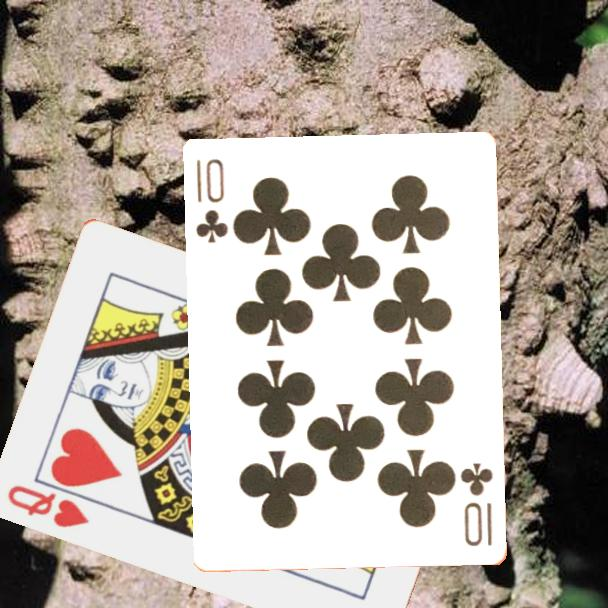c10: (193, 156, 232, 246), (458, 459, 496, 549)
h12: (4, 481, 93, 530)
